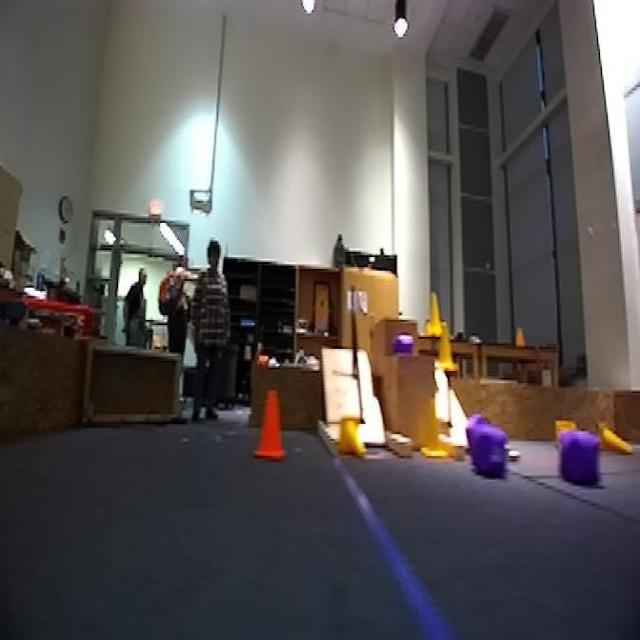frc_cone: (421, 398, 449, 460), (596, 417, 638, 454), (339, 416, 369, 462), (423, 293, 448, 340), (438, 322, 459, 371), (552, 415, 574, 436)
frc_cube: (558, 424, 606, 487), (470, 421, 508, 474), (464, 414, 486, 451), (390, 332, 415, 354)
